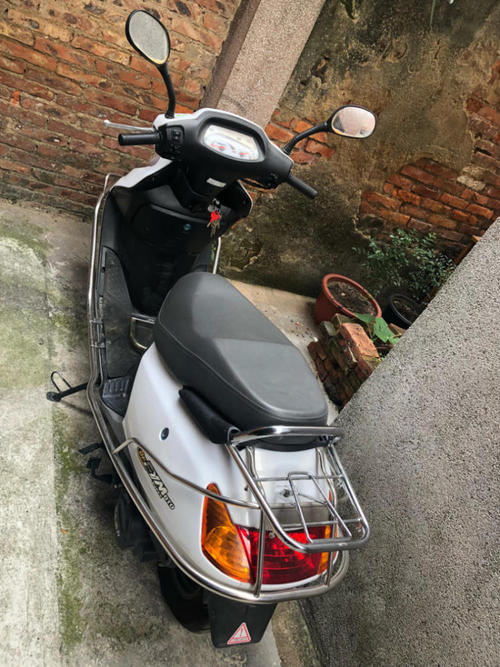motor: (55, 54, 376, 633)
